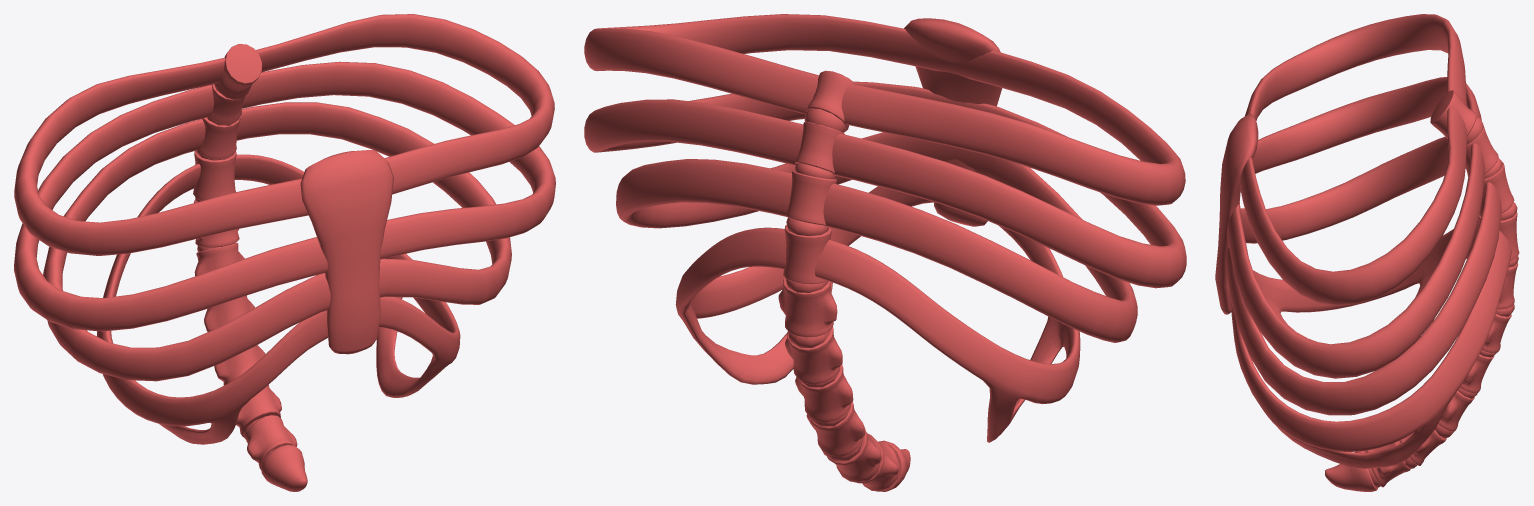
Rendered from MSH_Heart_Ribs.FBX.
3 views of the same model, side by side, from view 1: azimuth 30°, elevation 25°; view 2: azimuth 150°, elevation 25°; view 3: azimuth 270°, elevation 25° (orthographic). The views are drawn at different scales.
Parts seen in each view (by area): view 1: Heart_Ribs_GEO; view 2: Heart_Ribs_GEO; view 3: Heart_Ribs_GEO.
Boxes of the visible parts, x1=… form: Heart_Ribs_GEO: x1=14, y1=14, x2=555, y2=491; Heart_Ribs_GEO: x1=584, y1=14, x2=1186, y2=491; Heart_Ribs_GEO: x1=1215, y1=14, x2=1519, y2=491.
Bounding box in the file's own units: 453 × 338 × 234.
